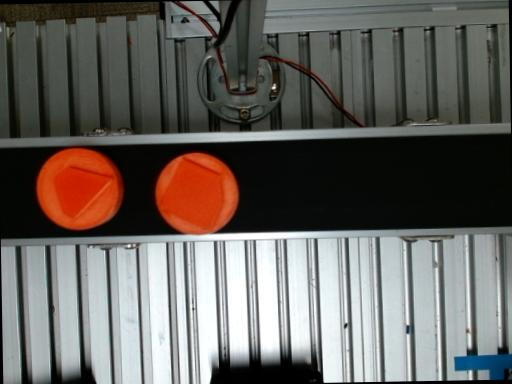Not_Square: (158, 157, 226, 229), (52, 165, 113, 223)
Orange_Waper: (36, 149, 124, 230), (155, 152, 239, 235)
